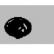correct: (3, 14, 34, 41)
